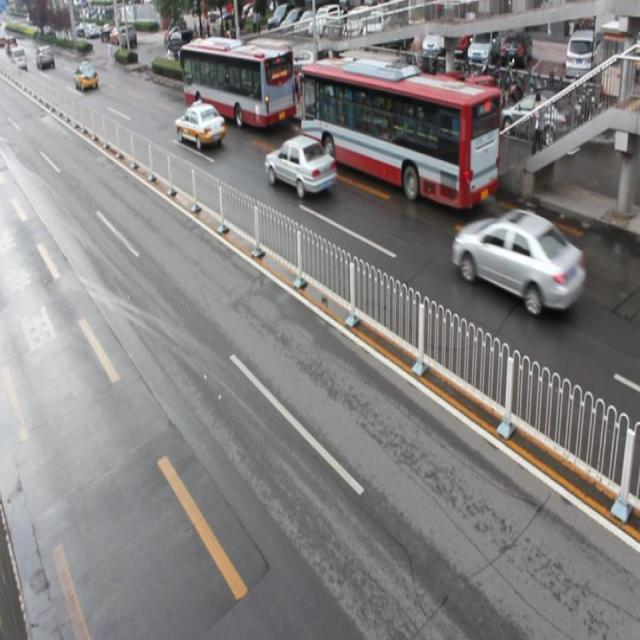car: (452, 206, 584, 315), (264, 134, 335, 199), (174, 100, 224, 148)
van: (302, 56, 499, 210), (182, 35, 295, 129)
